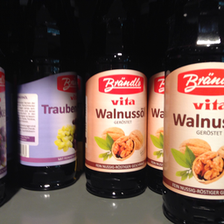oil: (164, 1, 224, 220), (85, 1, 149, 198), (12, 1, 78, 191)
